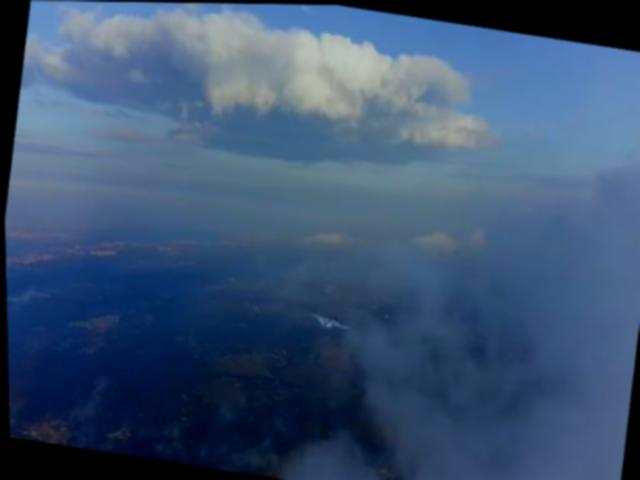uav: (309, 309, 351, 333)
